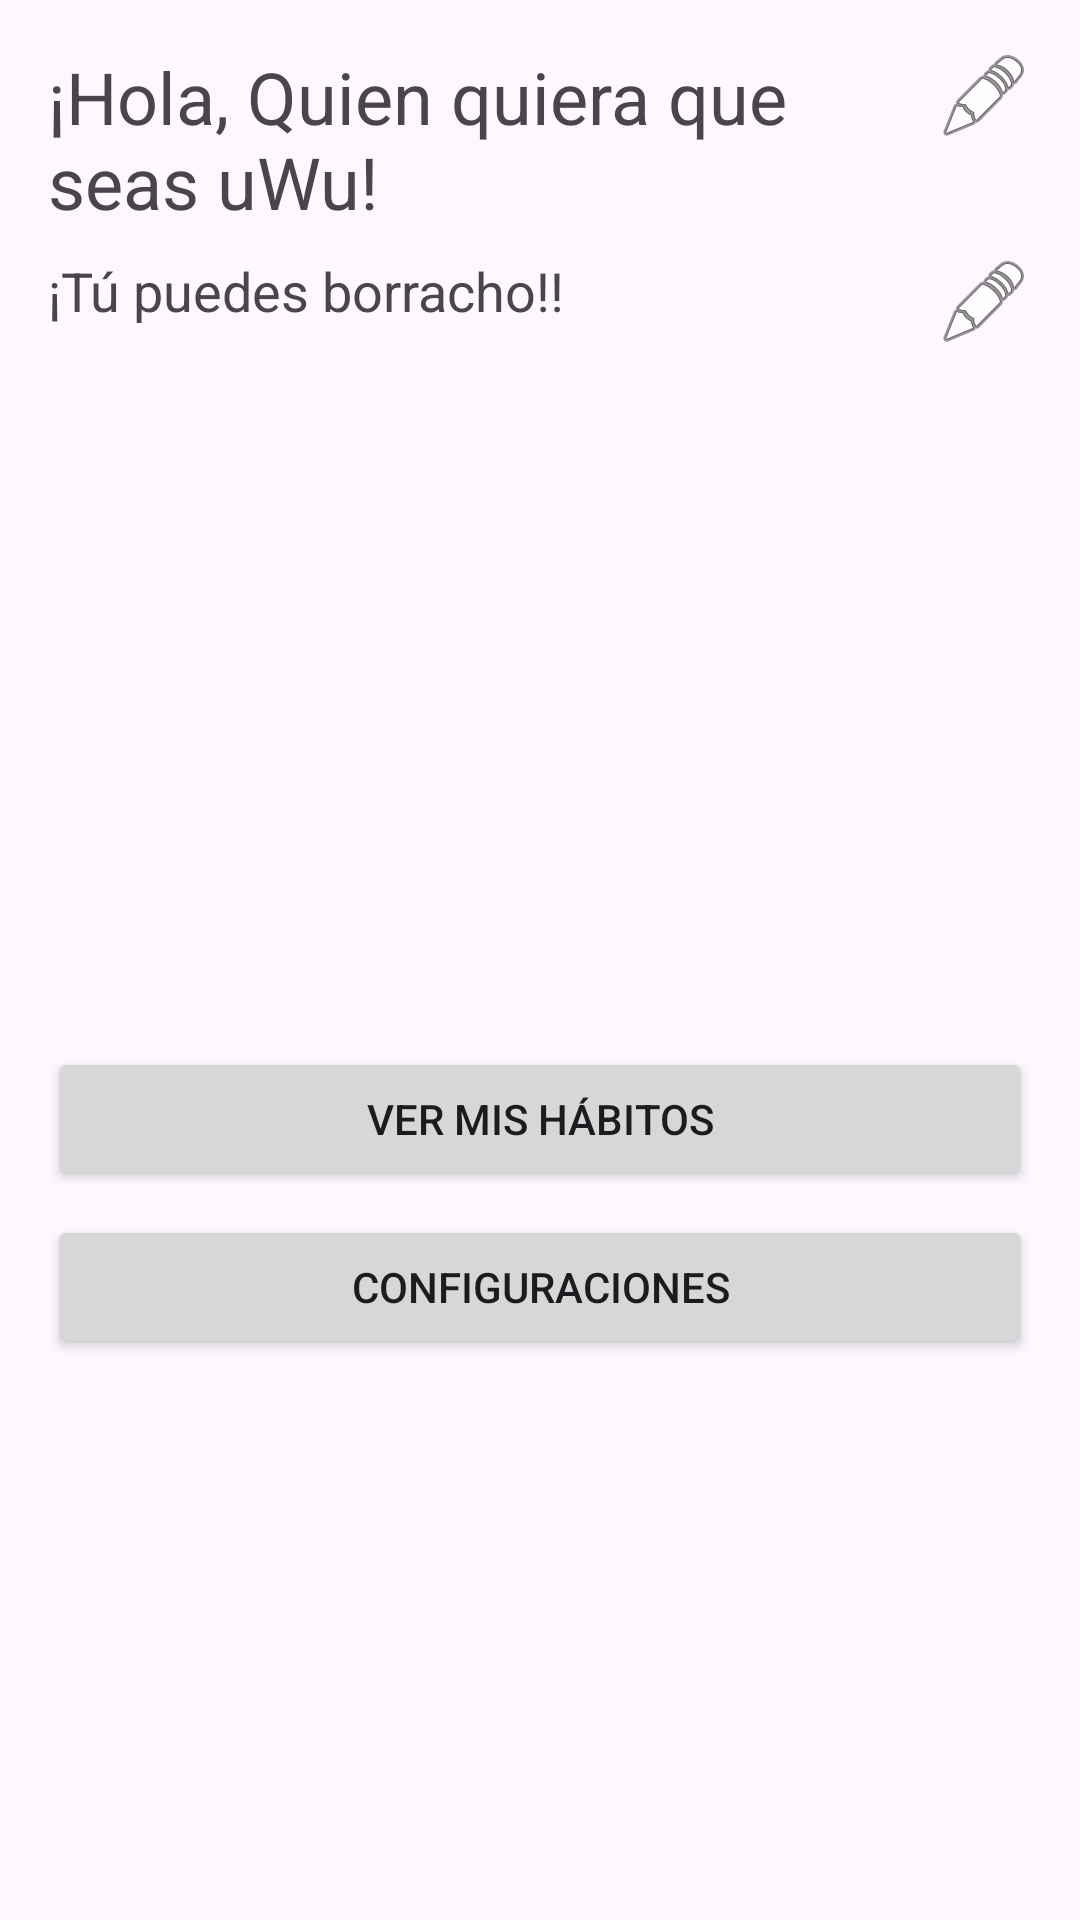

Icon click points for this 1080 × 1920 phone screenshot, format point (x, y):
edit: point (983, 95), point (983, 301)
